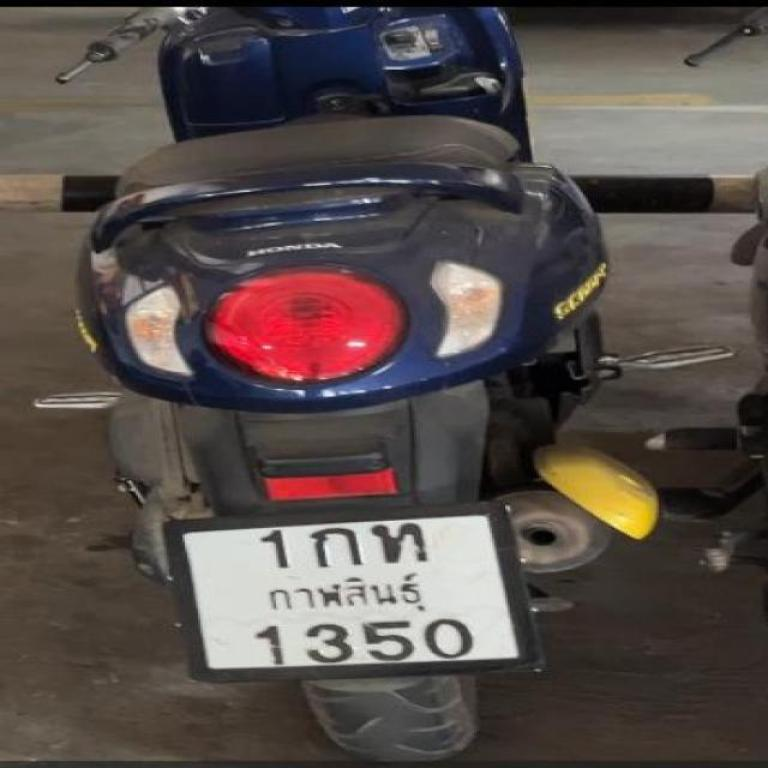license plate: (167, 503, 538, 682)
